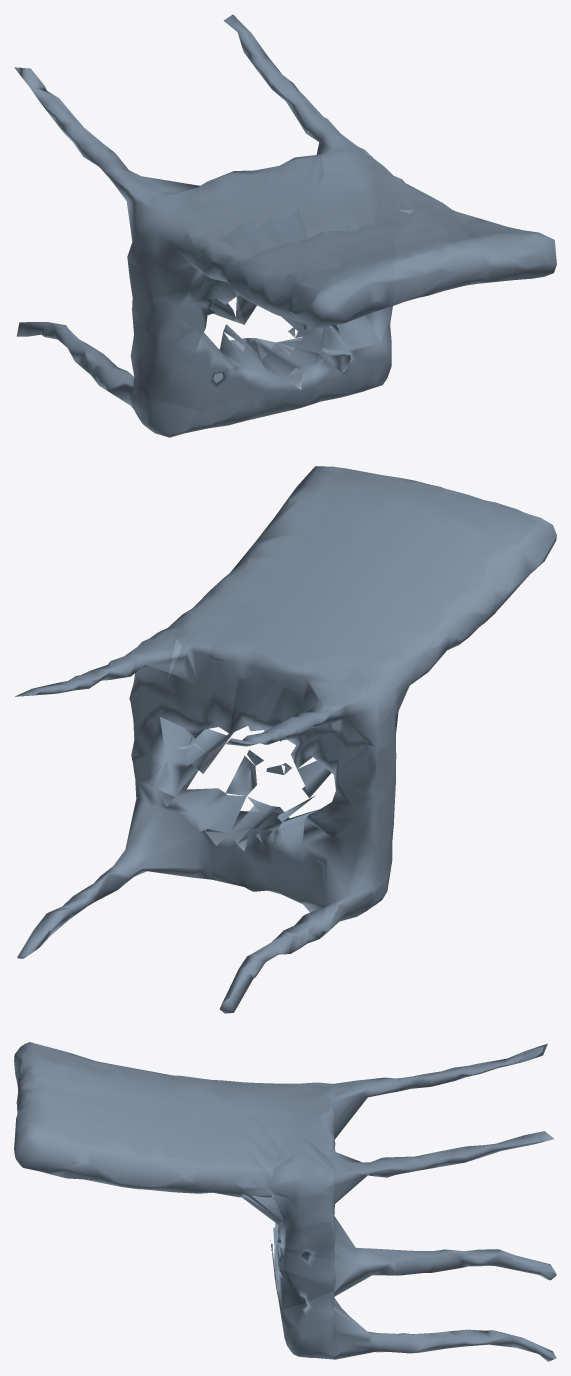
Rendered from sample_234_orig.obj.
3 renders of one model, top to bottom at view 1: azimuth 30°, elevation 25°; view 2: azimuth 150°, elevation 25°; view 3: azimuth 270°, elevation 25°, orthographic. The views are drawn at different scales.
Bounding box in the file's own units: 0.714 × 0.767 × 1.57.
